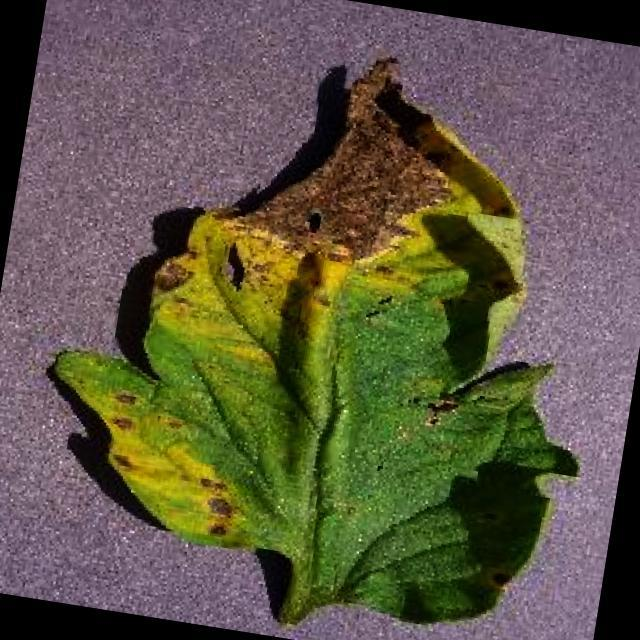Tomato Septoria spot leaf: (22, 12, 637, 640)
